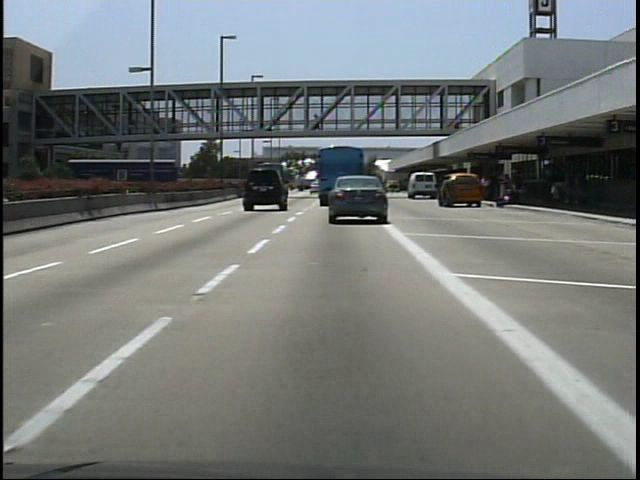person: (441, 176, 460, 214), (311, 112, 325, 138), (252, 110, 267, 133)
